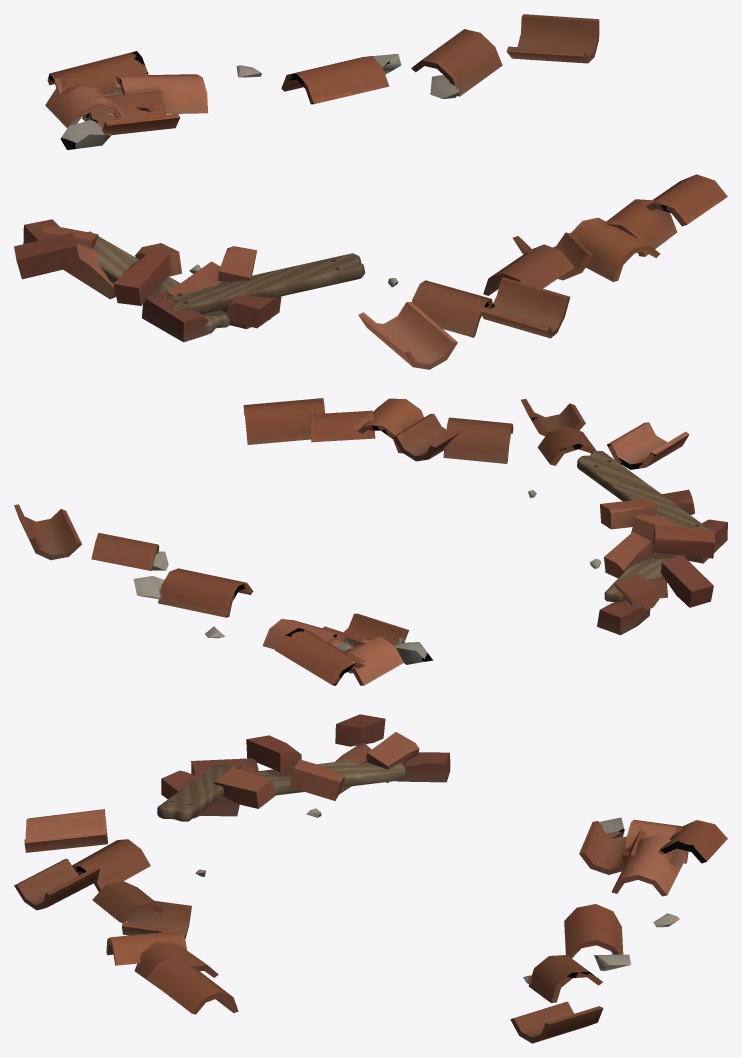
Rendered from rough-town-1.hq.glb.
3 renders of one model, top to bottom at view 1: azimuth 30°, elevation 25°; view 2: azimuth 150°, elevation 25°; view 3: azimuth 270°, elevation 25°, orthographic. The views are drawn at different scales.
Parts seen in each view (by area): view 1: rough-town-1; view 2: rough-town-1; view 3: rough-town-1.
Boxes of the visible parts, x1=… form: rough-town-1: x1=14, y1=14, x2=727, y2=369; rough-town-1: x1=14, y1=398, x2=727, y2=685; rough-town-1: x1=14, y1=714, x2=727, y2=1043.
Bounding box in the file's own units: 1.82 × 0.154 × 1.78.
1 material, 1 textured.
